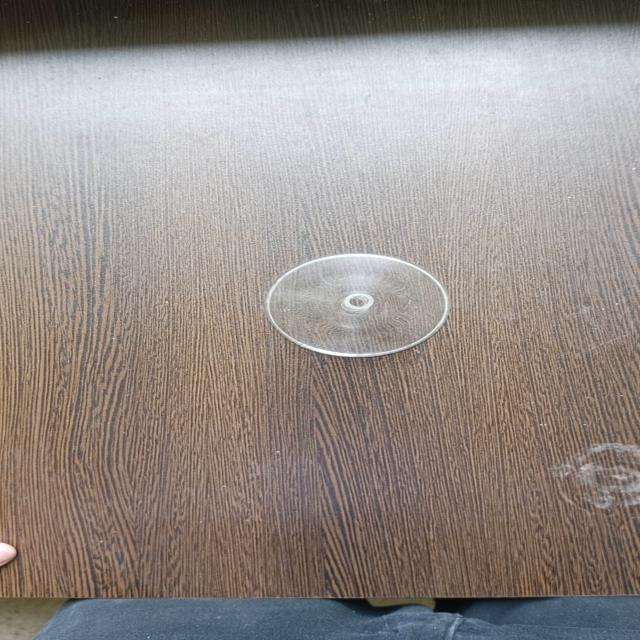funnel: (254, 250, 460, 356)
